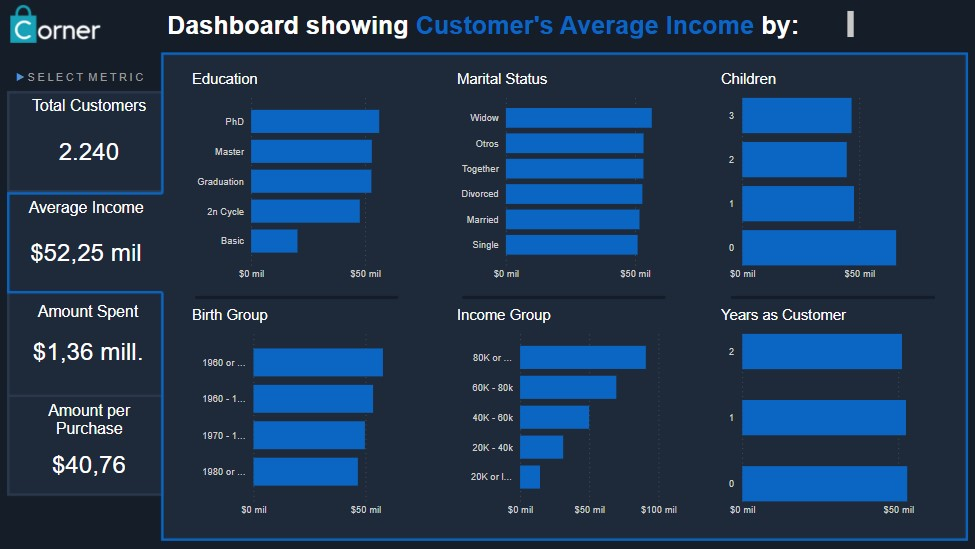

Layout of this report page (visuals, bound fields, positions):
{"tool":"powerbi","page":{"name":"2","canvas":[1280,720],"ordinal":5},"visuals":[{"type":"card","title":"Total Customers","fields":{"Values":["DAX.Total Customers"]},"box":[42.6,126.4,187.5,115],"z":0},{"type":"card","title":"Average Income","fields":{"Values":["DAX.Average Income"]},"box":[39.8,255.6,187.5,110.8],"z":1000},{"type":"card","title":"Amount Spent","fields":{"Values":["DAX.Amount Spent"]},"box":[42.6,387.7,184.6,99.4],"z":2000},{"type":"card","title":"Amount per Purchase","fields":{"Values":["DAX.Amount per Purchase"]},"box":[42.6,512.7,187.5,113.6],"z":3000},{"type":"barChart","title":"Education","fields":{"Category":["Customers.Education"],"Y":["DAX.Average Income"]},"box":[261.3,93.7,278.3,272.7],"z":4000},{"type":"barChart","title":"Marital Status","fields":{"Category":["Customers.Marital_Status (grupos)"],"Y":["DAX.Average Income"]},"box":[597.9,93.7,288.3,272.7],"z":5000},{"type":"barChart","title":"Children","fields":{"Category":["Customers.Children"],"Y":["DAX.Average Income"]},"box":[931.6,93.7,294,272.7],"z":6000},{"type":"barChart","title":"Birth Group","fields":{"Category":["Customers.Birth Group"],"Y":["DAX.Average Income"]},"box":[261.3,392,278.3,272.7],"z":7000},{"type":"barChart","title":"Income Group","fields":{"Category":["Customers.Income Group"],"Y":["DAX.Average Income"]},"box":[597.9,392,288.3,272.7],"z":8000},{"type":"barChart","title":"Years as Customer","fields":{"Category":["Customers.Years as Customer"],"Y":["DAX.Average Income"]},"box":[931.6,392,294,272.7],"z":9000},{"type":"textbox","box":[230.1,12.8,879.1,45.4],"z":10000},{"type":"textbox","box":[39.8,89.5,188.9,56.8],"z":11000},{"type":"actionButton","box":[34.1,120.7,196,123.6],"z":12000},{"type":"actionButton","box":[34.1,245.7,196,123.6],"z":13000},{"type":"actionButton","box":[35.5,376.3,196,123.6],"z":14000},{"type":"actionButton","box":[35.5,504.1,196,123.6],"z":15000}]}

Visuals, with their boxes in screenshot pixels (x1, y1, x2, y2), scaled from the page's 1280x720 canvas onto the 975x549 screenshot:
"Total Customers" card: {"x1": 32, "y1": 96, "x2": 175, "y2": 184}
"Average Income" card: {"x1": 30, "y1": 195, "x2": 173, "y2": 279}
"Amount Spent" card: {"x1": 32, "y1": 296, "x2": 173, "y2": 371}
"Amount per Purchase" card: {"x1": 32, "y1": 391, "x2": 175, "y2": 478}
"Education" barChart: {"x1": 199, "y1": 71, "x2": 411, "y2": 279}
"Marital Status" barChart: {"x1": 455, "y1": 71, "x2": 675, "y2": 279}
"Children" barChart: {"x1": 710, "y1": 71, "x2": 934, "y2": 279}
"Birth Group" barChart: {"x1": 199, "y1": 299, "x2": 411, "y2": 507}
"Income Group" barChart: {"x1": 455, "y1": 299, "x2": 675, "y2": 507}
"Years as Customer" barChart: {"x1": 710, "y1": 299, "x2": 934, "y2": 507}
textbox: {"x1": 175, "y1": 10, "x2": 845, "y2": 44}
textbox: {"x1": 30, "y1": 68, "x2": 174, "y2": 112}
actionButton: {"x1": 26, "y1": 92, "x2": 175, "y2": 186}
actionButton: {"x1": 26, "y1": 187, "x2": 175, "y2": 282}
actionButton: {"x1": 27, "y1": 287, "x2": 176, "y2": 381}
actionButton: {"x1": 27, "y1": 384, "x2": 176, "y2": 479}
